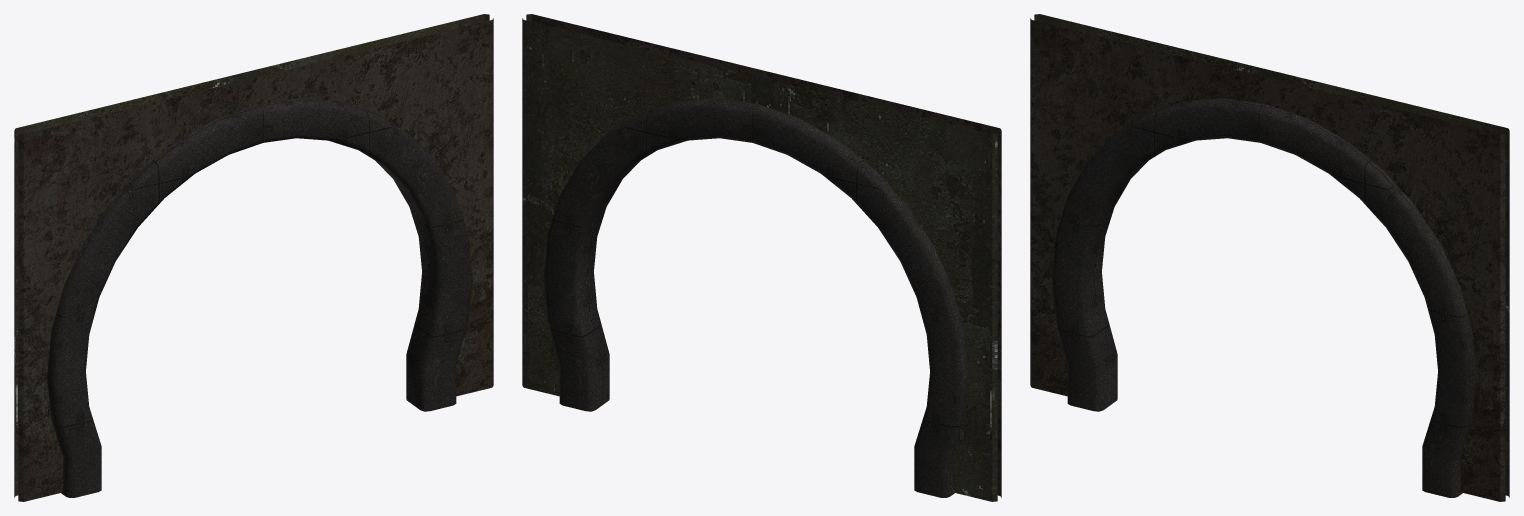
File: tunnel_hole_2.glb
3 renders of one model, left to right at view 1: azimuth 30°, elevation 25°; view 2: azimuth 150°, elevation 25°; view 3: azimuth 330°, elevation 25°, orthographic.
Parts seen in each view (by area): view 1: tunnel_hole_2; view 2: tunnel_hole_2; view 3: tunnel_hole_2.
Boxes of the visible parts, box(x1,y1,x2,y2) form: tunnel_hole_2: box(14, 14, 493, 501); tunnel_hole_2: box(522, 14, 1001, 501); tunnel_hole_2: box(1030, 14, 1509, 501).
Bounding box in the file's own units: 4.06 × 3.02 × 0.3.
3 materials, 3 textured.
